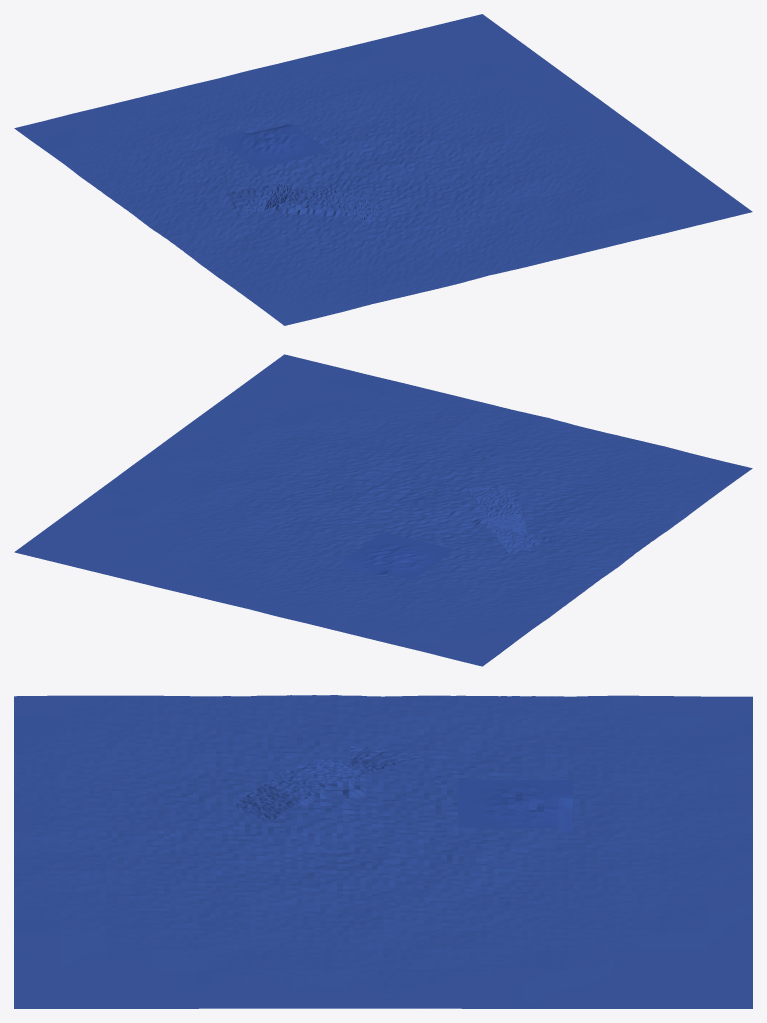
Rendered from MapWater.obj.
3 views of the same model, one above another, from view 1: azimuth 30°, elevation 25°; view 2: azimuth 150°, elevation 25°; view 3: azimuth 270°, elevation 25° (orthographic). The views are drawn at different scales.
Visible parts, largest first — view 1: Plane.002, Plane, Plane.001; view 2: Plane.002, Plane.001, Plane; view 3: Plane.002, Plane.001, Plane.
Part boxes in pixels (<box>): Plane.002: <box>14,14,752,325</box>; Plane: <box>226,184,380,224</box>; Plane.001: <box>215,124,329,169</box>; Plane.002: <box>14,354,752,666</box>; Plane.001: <box>340,532,454,580</box>; Plane: <box>467,485,554,554</box>; Plane.002: <box>14,695,752,1008</box>; Plane.001: <box>458,780,572,833</box>; Plane: <box>236,744,421,821</box>.
Bounding box in the file's own units: 41.84 × 1.37 × 41.84.
